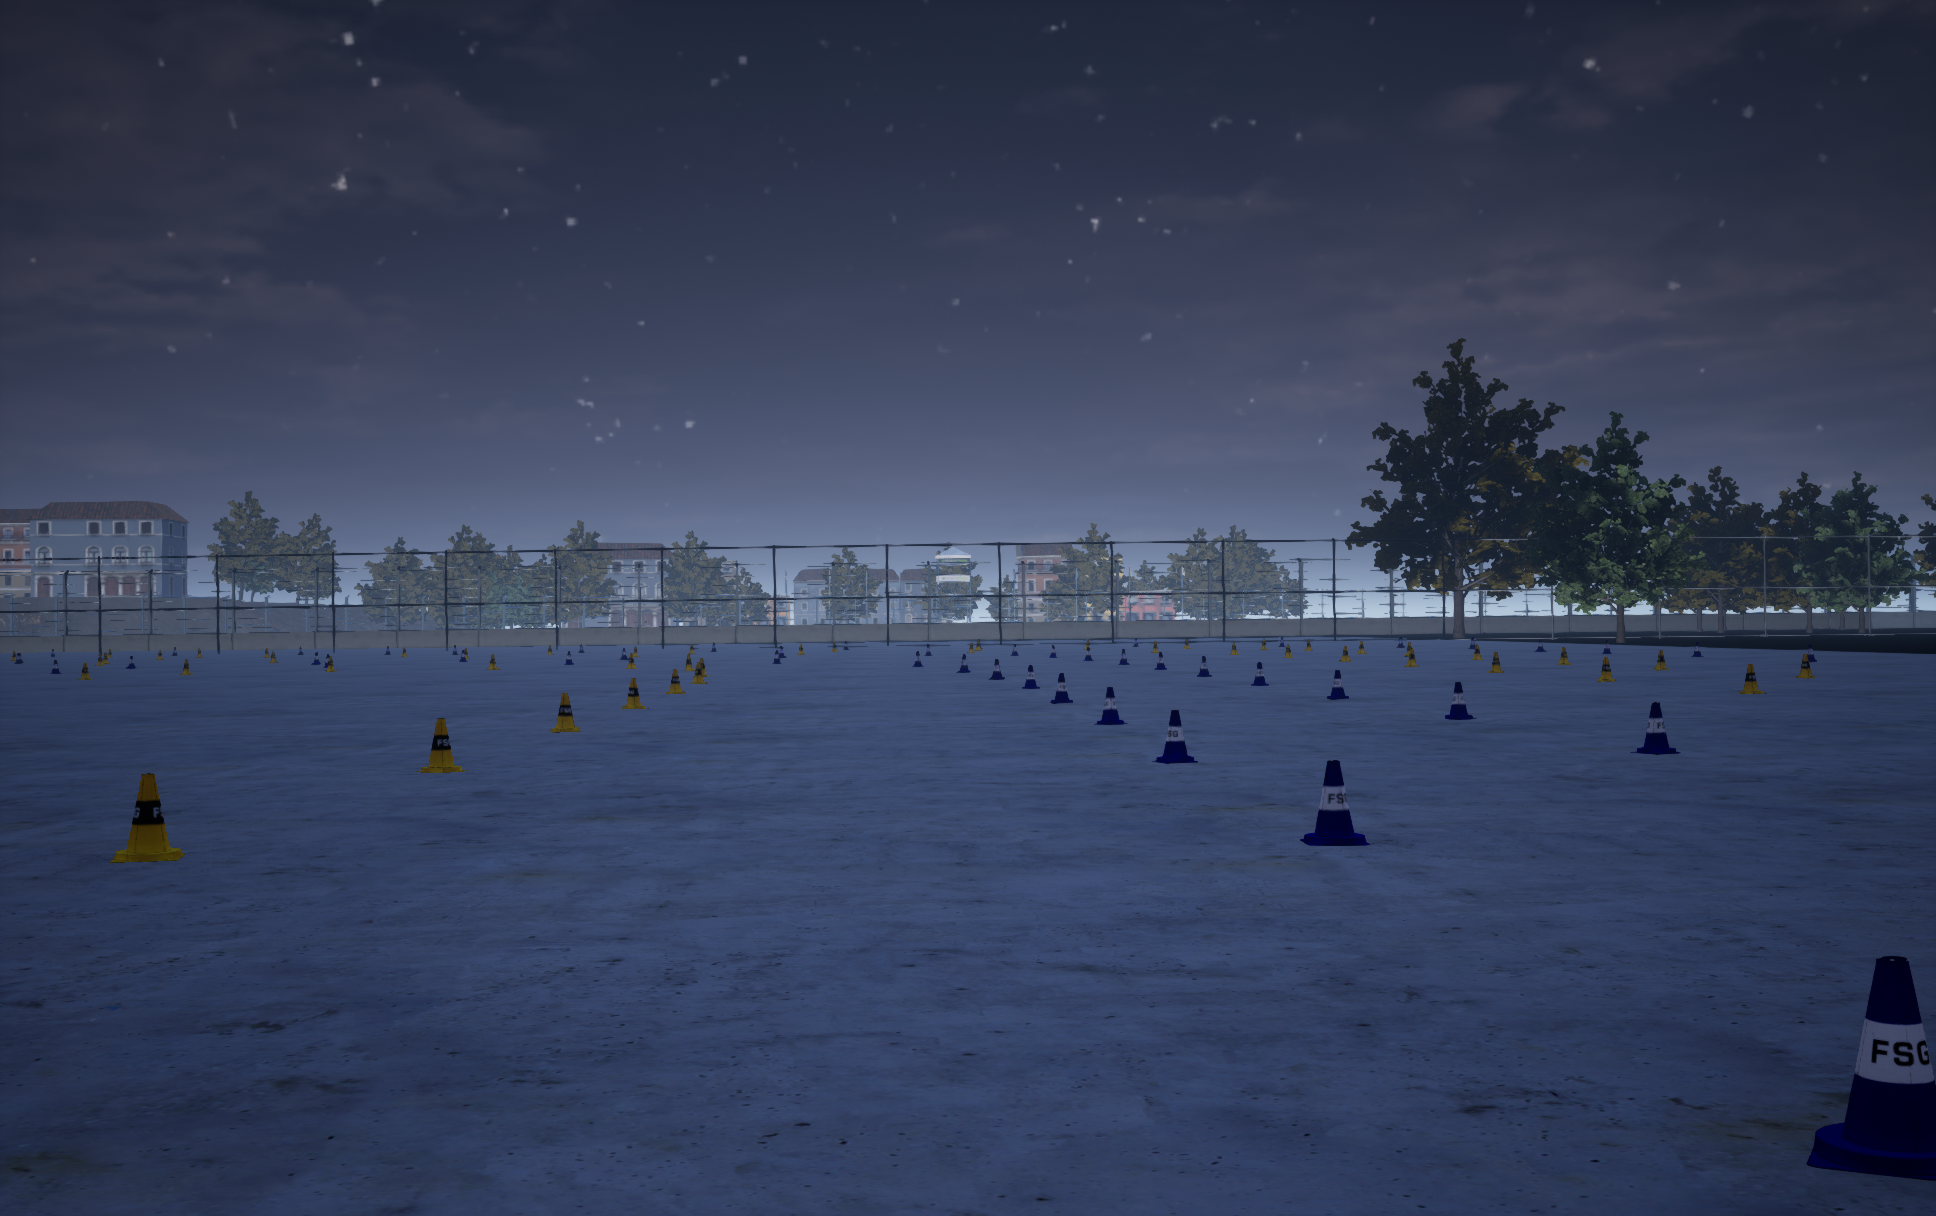blue: (109, 773, 185, 862), (416, 719, 466, 772), (549, 693, 581, 733), (1738, 664, 1766, 693), (622, 678, 649, 707), (1597, 657, 1617, 681), (665, 670, 685, 693), (1796, 654, 1814, 678), (691, 663, 707, 684), (1488, 651, 1503, 672), (1653, 650, 1668, 670), (693, 658, 707, 677)
yellow: (1806, 955, 1935, 1180), (1300, 759, 1370, 845), (1631, 702, 1680, 754), (1152, 710, 1196, 764), (1094, 686, 1128, 724), (1446, 682, 1477, 719), (1051, 672, 1072, 703), (1327, 670, 1348, 699), (1251, 663, 1268, 685), (1023, 665, 1039, 688), (988, 658, 1004, 679), (1196, 656, 1210, 677), (955, 654, 969, 672), (1154, 651, 1166, 670)
